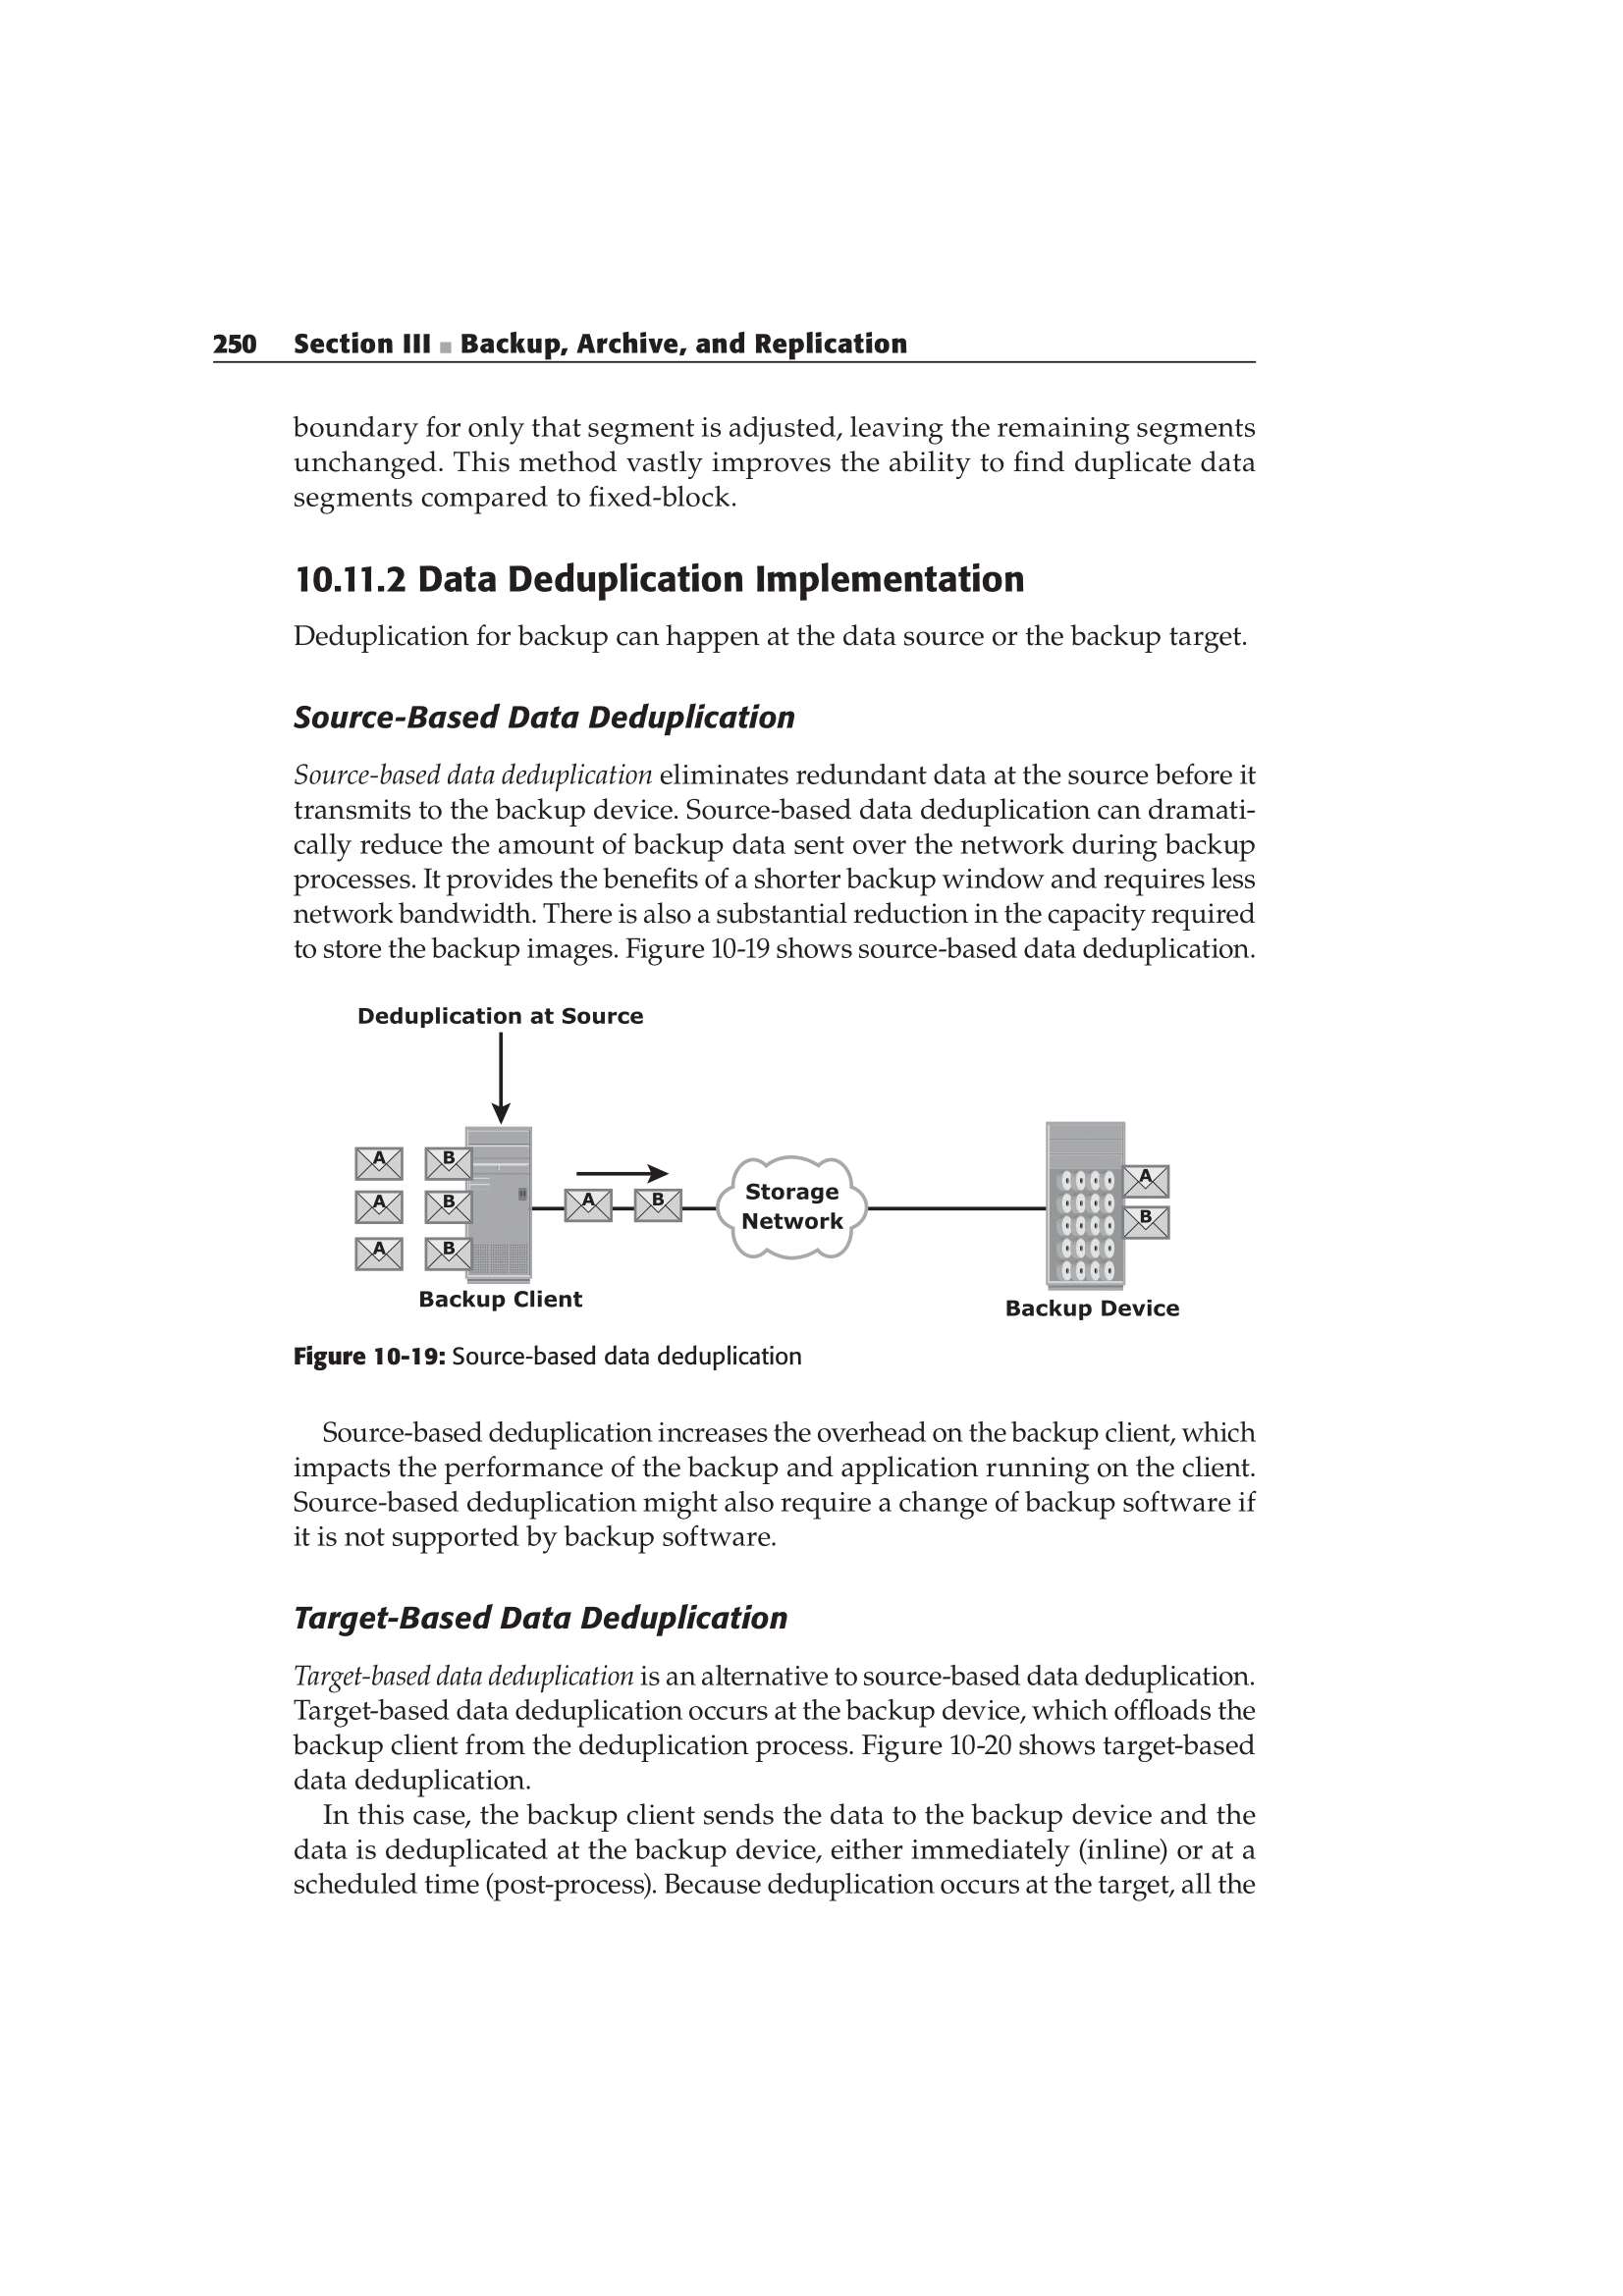Image: (51, 1001, 1361, 1345)
Paragraph: (148, 1647, 1328, 1970), (133, 762, 1324, 976), (251, 1408, 1388, 1575), (242, 390, 1286, 516), (148, 281, 1047, 369), (221, 537, 1068, 625), (227, 700, 868, 750), (242, 1596, 817, 1650)
